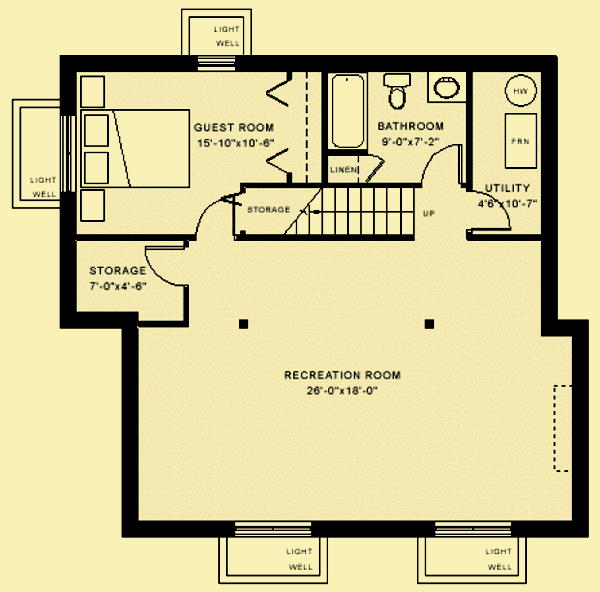bed: (77, 109, 194, 193)
door: (417, 142, 465, 188), (465, 187, 513, 233), (138, 243, 185, 288), (194, 193, 236, 241), (365, 153, 390, 181)
large_sink: (379, 74, 414, 113)
small_sink: (425, 71, 467, 107)
stairs: (232, 184, 420, 243)
tub: (329, 70, 368, 150)
window: (55, 114, 77, 194), (430, 518, 511, 539), (230, 519, 315, 539), (194, 52, 236, 72)
